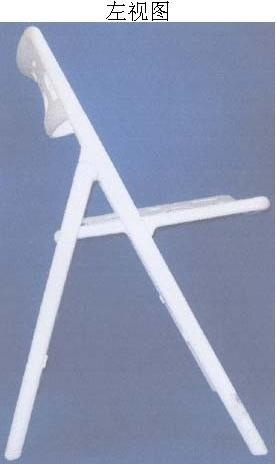obstacle: (5, 26, 269, 460)
